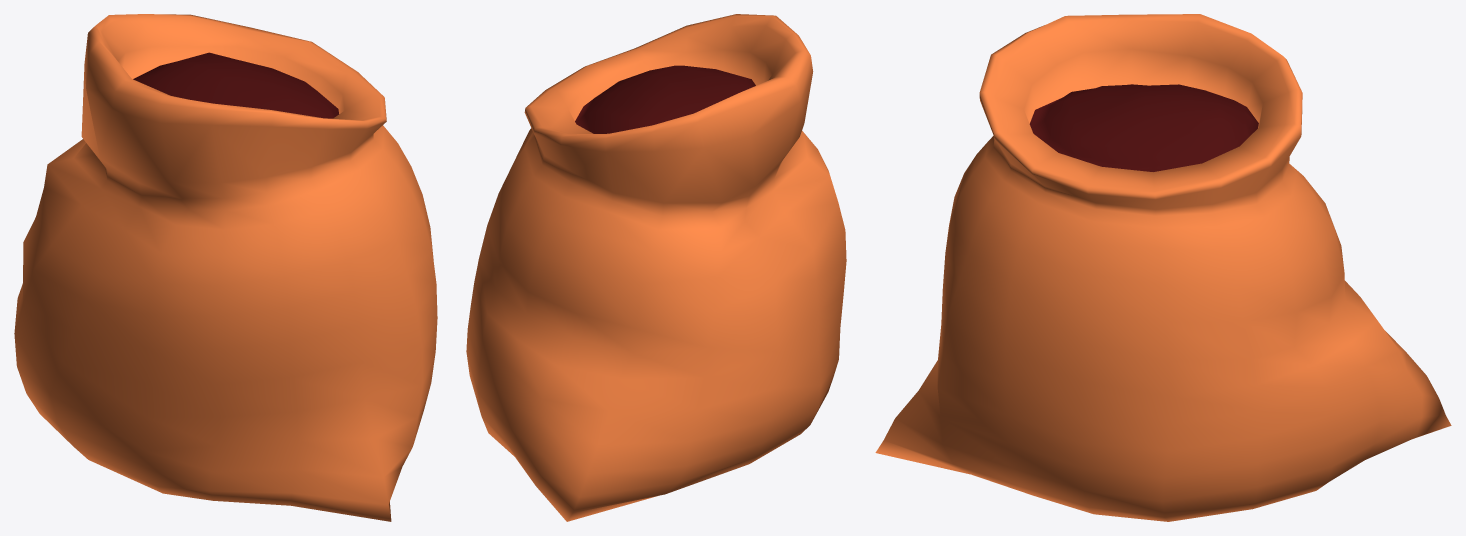
The model's file is winter_castle_item8.glb.
3 renders of one model, left to right at view 1: azimuth 30°, elevation 25°; view 2: azimuth 150°, elevation 25°; view 3: azimuth 270°, elevation 25°, orthographic. The views are drawn at different scales.
Visible parts, largest first — view 1: Item8_Medieval_0; view 2: Item8_Medieval_0; view 3: Item8_Medieval_0.
Boxes of the visible parts, left/top/right/bottom form: Item8_Medieval_0: left=14, top=14, right=437, bottom=521; Item8_Medieval_0: left=466, top=14, right=846, bottom=521; Item8_Medieval_0: left=875, top=14, right=1451, bottom=521.
Bounding box in the file's own units: 0.3757 × 0.3884 × 0.5267.
1 material, 1 textured.
